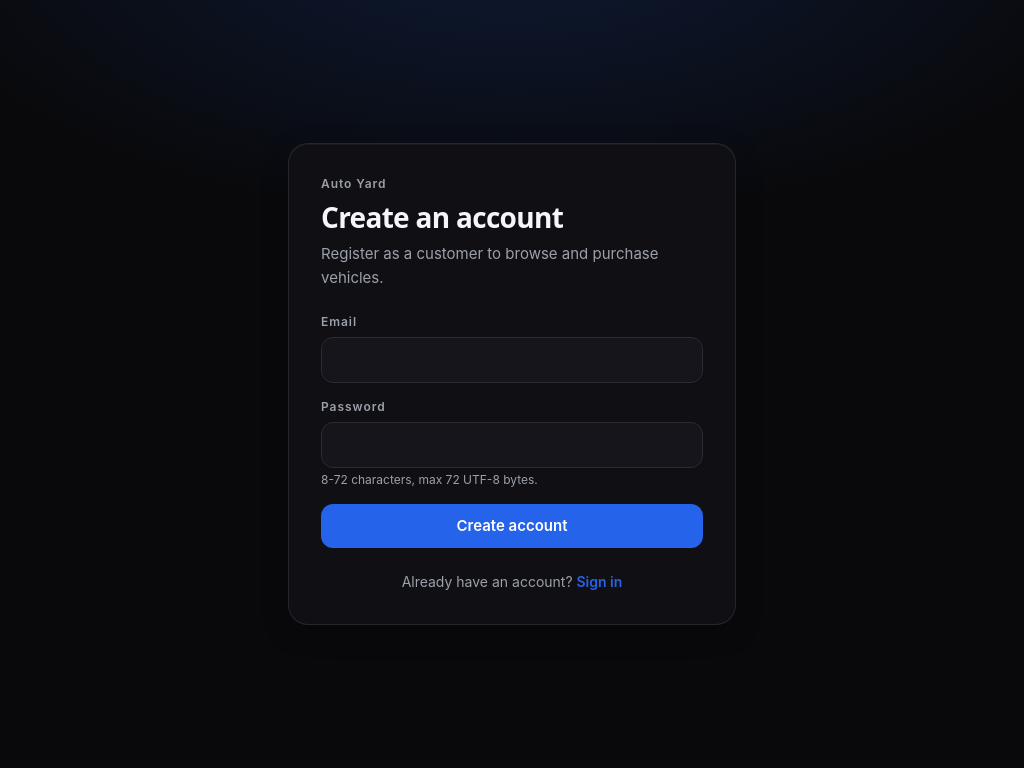
Test case: RegisterPage › shows field-level server error under the right inputs from ApiError
Type "test@example.com" into the field labelled "Email" at (512, 360), box x1=321 y1=337 x2=703 y2=383
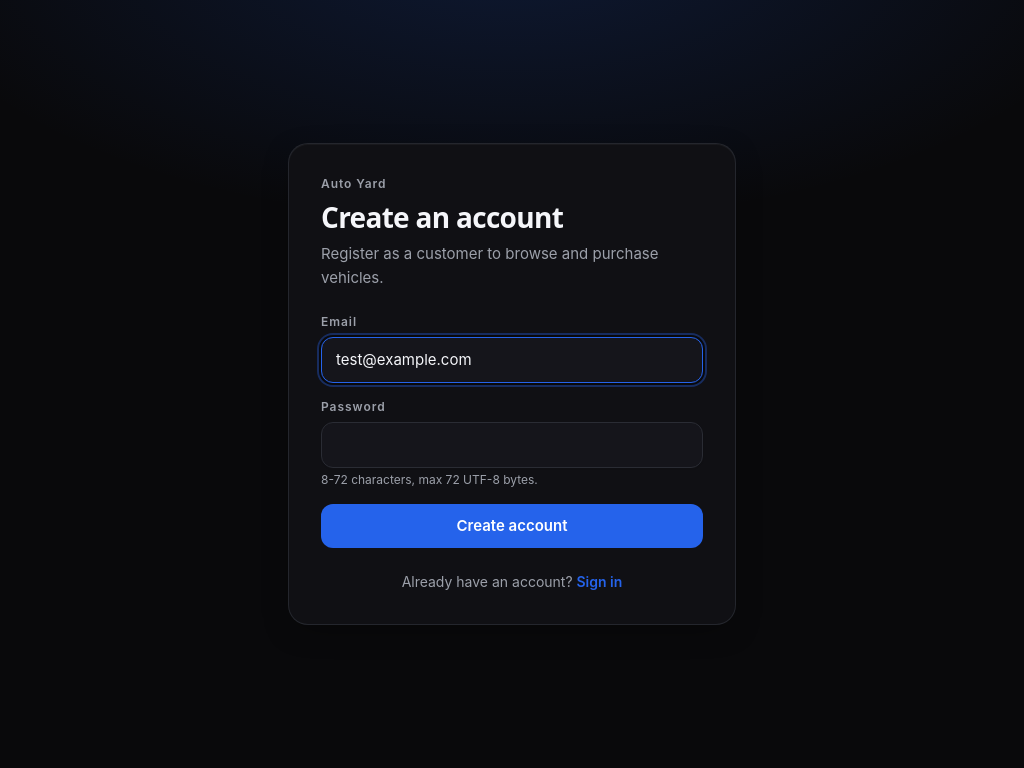
Type "validPassword123" into the password field labelled "Password" at (512, 445), box x1=321 y1=422 x2=703 y2=468
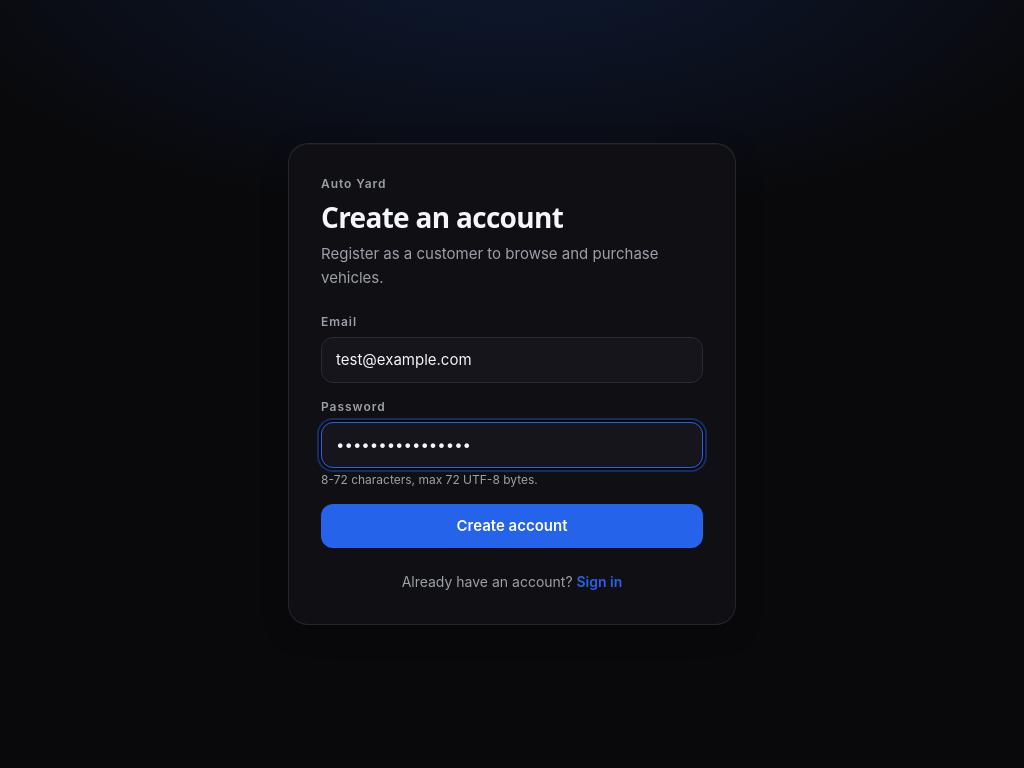
Click the button "Create account" at (512, 526), box x1=321 y1=504 x2=703 y2=548
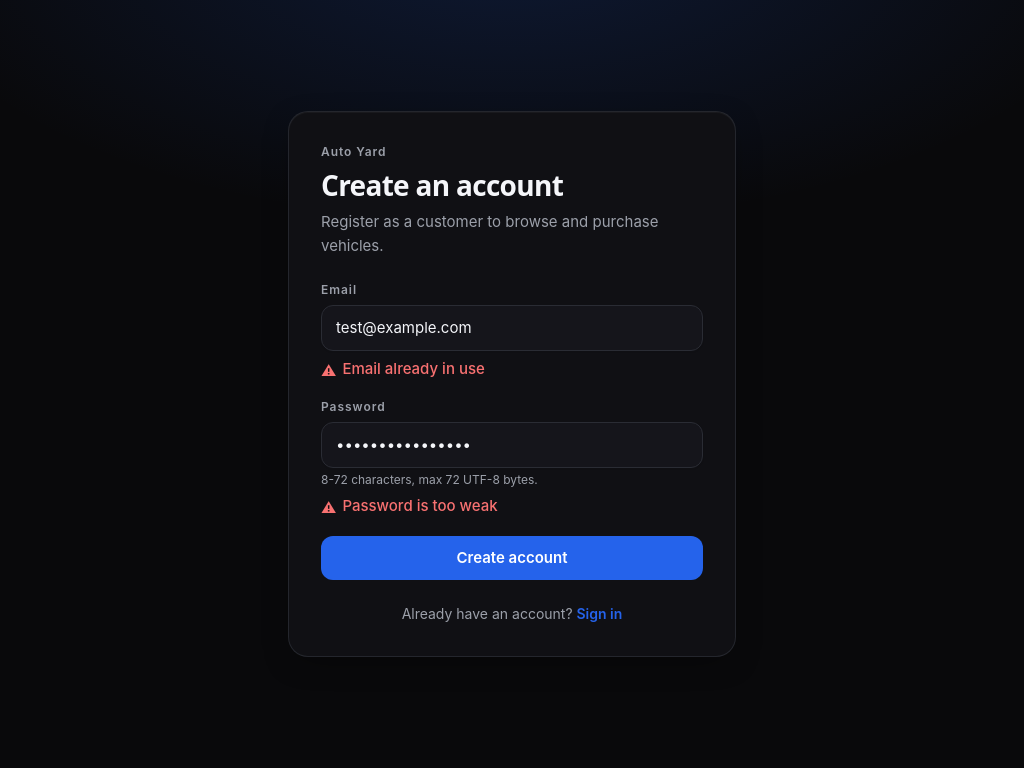
expect the message with test id "email-error" shows "Email already in use": met, box x1=342 y1=359 x2=485 y2=378
expect the message with test id "password-error" shows "Password is too weak": met, box x1=342 y1=496 x2=498 y2=515
